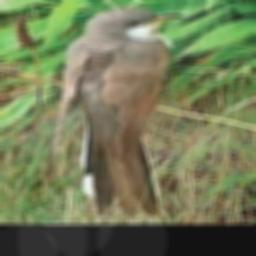Cuckoo: (61, 8, 185, 213)
